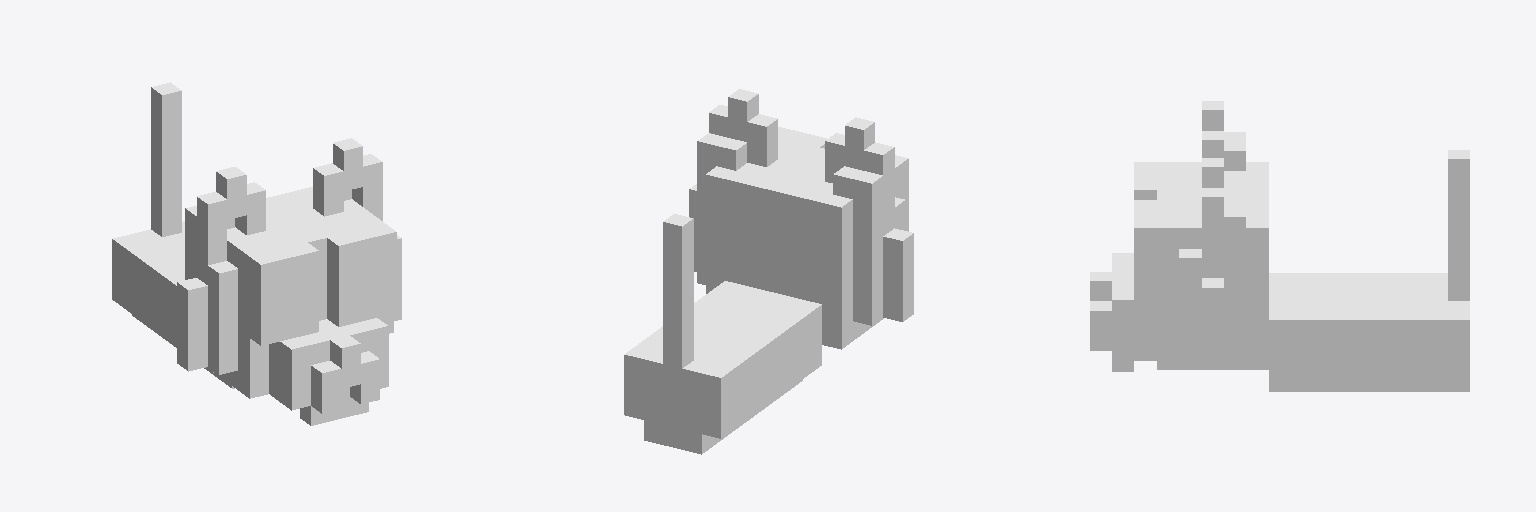
The model's file is gglive_cat_main.obj.
3 renders of one model, left to right at view 1: azimuth 30°, elevation 25°; view 2: azimuth 150°, elevation 25°; view 3: azimuth 270°, elevation 25°, orthographic.
Parts seen in each view (by area): view 1: gglive_cat_main; view 2: gglive_cat_main; view 3: gglive_cat_main.
Boxes of the visible parts, box(x1,y1,x2,y2) form: gglive_cat_main: box(112, 82, 401, 425); gglive_cat_main: box(624, 89, 913, 454); gglive_cat_main: box(1090, 101, 1469, 391).
Bounding box in the file's own units: 11 × 12 × 17.